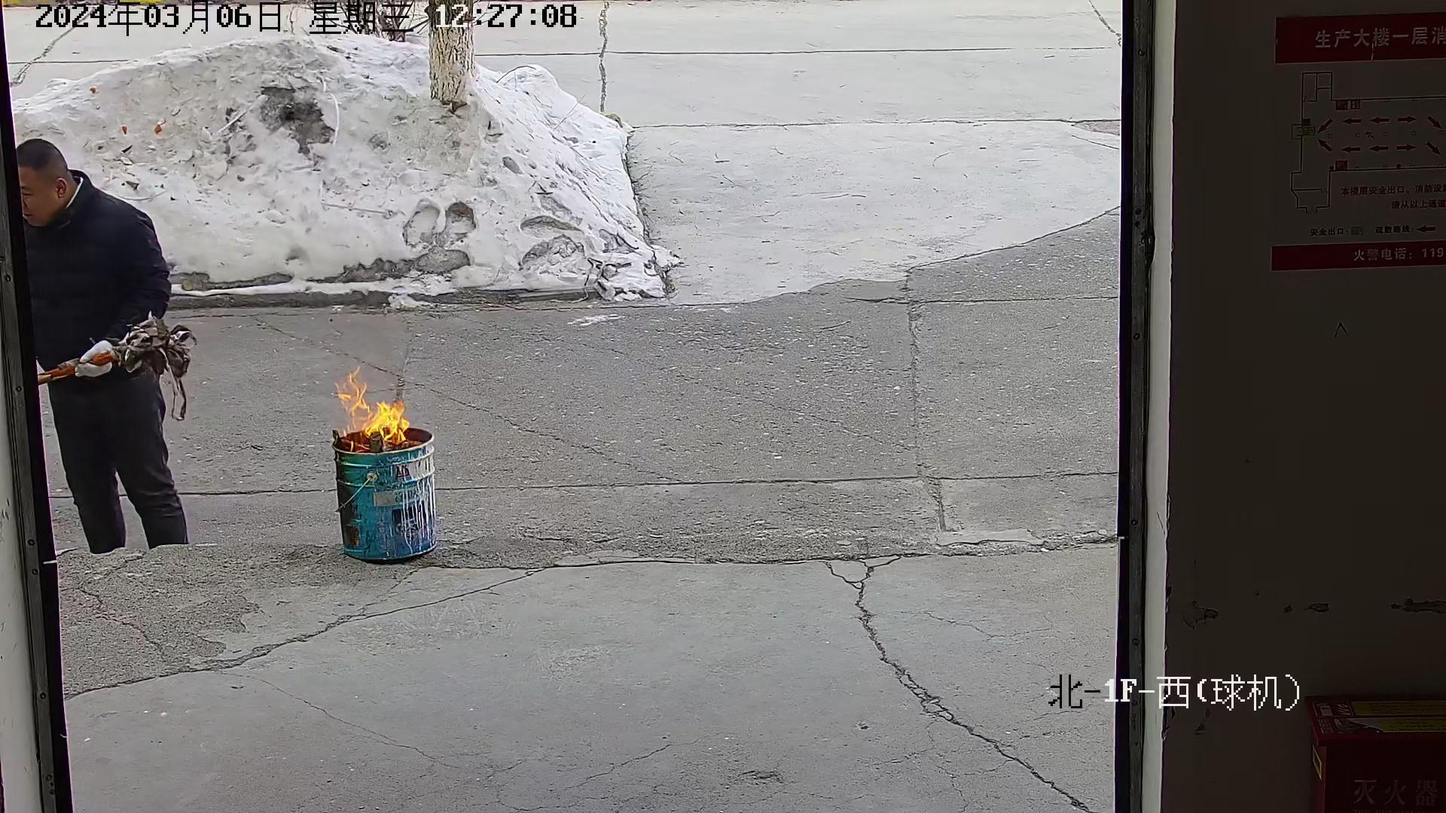fire: (337, 368, 409, 443)
